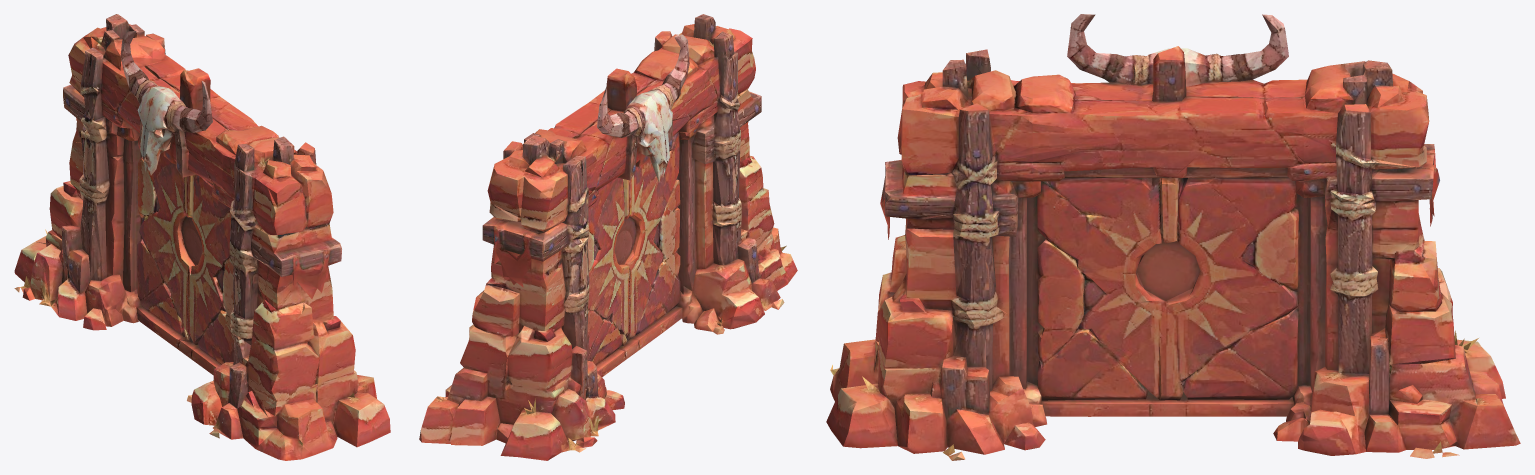
File: boss_door_red_canyon.glb
The picture shows the model from 3 angles, left to right: view 1: azimuth 30°, elevation 25°; view 2: azimuth 150°, elevation 25°; view 3: azimuth 270°, elevation 25°; orthographic projection. The views are drawn at different scales.
Visible parts, largest first — view 1: jamb_p, jamb_n, slab, lintel; view 2: jamb_n, jamb_p, slab, lintel; view 3: slab, jamb_p, jamb_n, lintel.
Boxes of the visible parts, x1,y1,x2,y2 form: jamb_p: (191,131,390,460); jamb_n: (14,14,171,328); slab: (125,128,234,375); lintel: (86,31,272,402); jamb_n: (419,129,624,460); jamb_p: (653,14,797,328); slab: (587,132,692,376); lintel: (548,34,733,406); slab: (1032,177,1303,416); jamb_p: (826,49,1032,460); jamb_n: (1303,60,1520,458); lintel: (1032,14,1303,450).
Size of the model in its own units: 2.29 by 4.1 by 6.8.
1 material, 1 textured.
